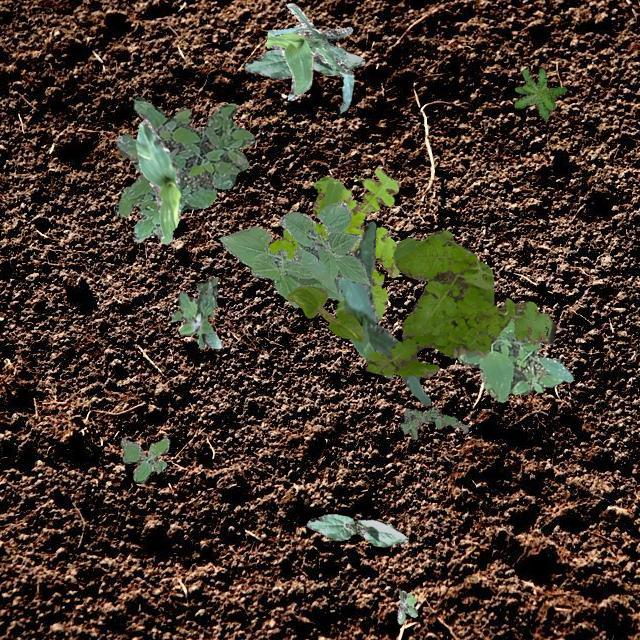crop: (336, 220, 429, 404), (218, 200, 370, 306), (266, 2, 352, 112), (134, 119, 184, 238), (286, 284, 364, 340), (243, 46, 364, 78), (306, 512, 406, 546)
weed: (364, 230, 554, 376), (114, 95, 253, 242), (267, 168, 398, 320), (457, 316, 572, 402), (170, 276, 222, 348), (514, 68, 566, 120), (398, 406, 468, 438), (120, 438, 168, 482), (396, 590, 416, 622)
